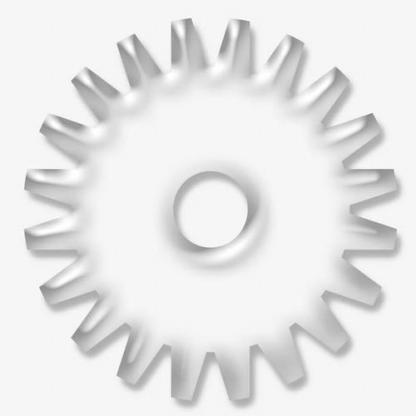FOD: (15, 15, 404, 407)
